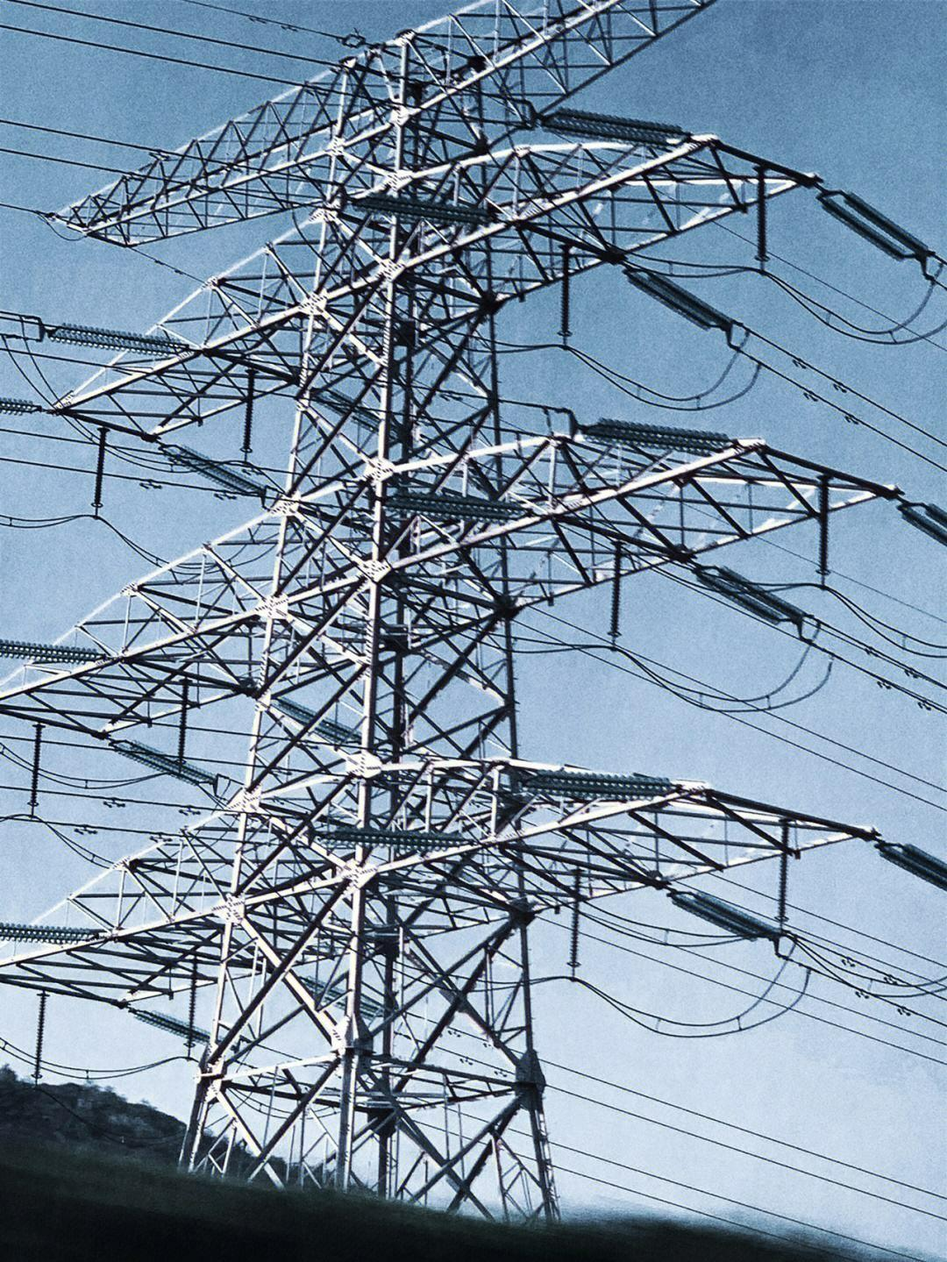power_tower: (0, 4, 821, 1189)
